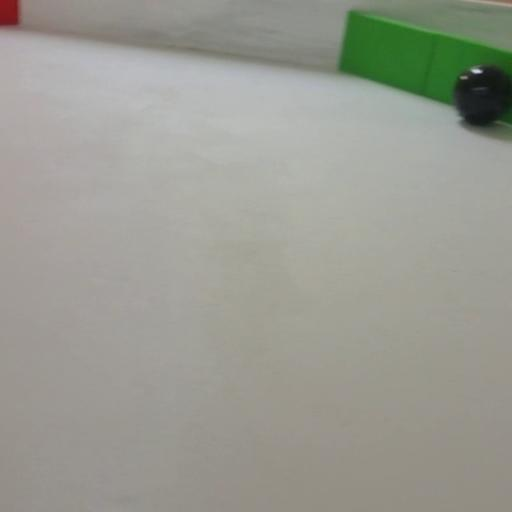dead: (450, 63, 511, 125)
